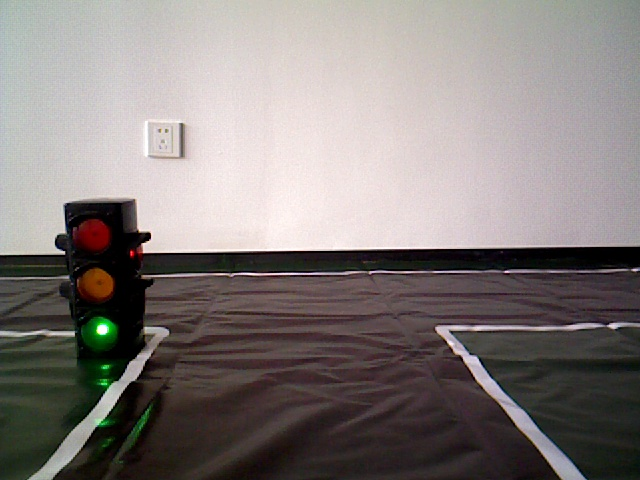green: (67, 208, 145, 355)
